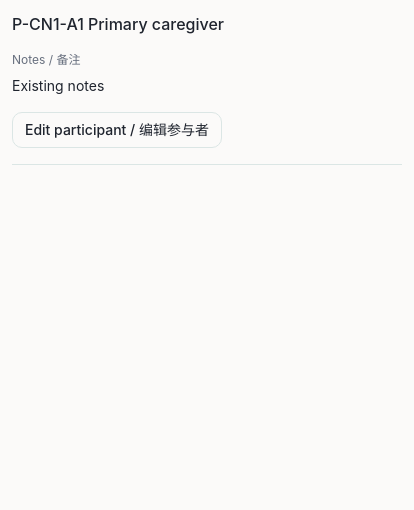
researcher-only participant display editing › retains the draft when saving is refused
Click the button "Edit participant / 编辑参与者". click: (117, 130)
box: [12,112,222,148]
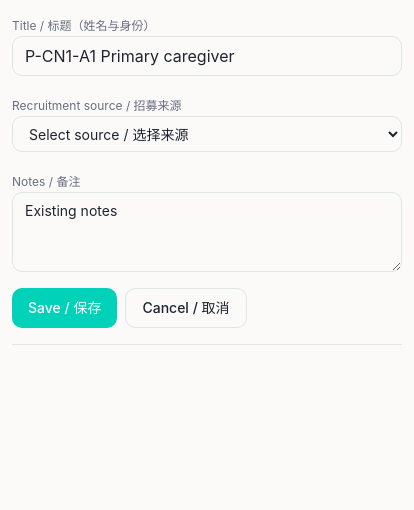
Select "Other / 其他（自行填写）" in the dropdown labelled "Recruitment source / 招募来源". click: (207, 134)
box: [12,116,402,152]
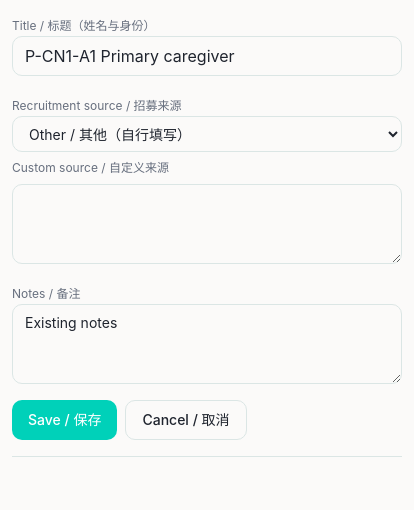
Type "Retained source" into the text box labelled "Custom source / 自定义来源". click: (207, 224)
box: [12,184,402,264]
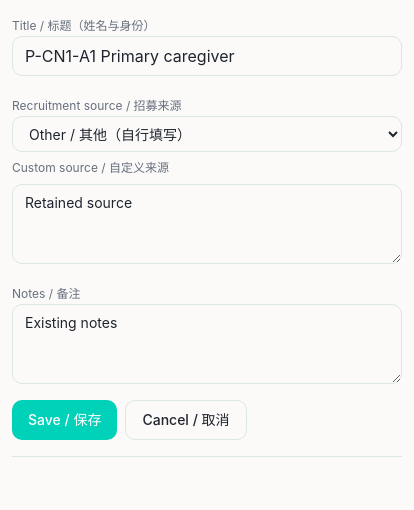
Click the button "Save / 保存". click: (65, 420)
box: [12,400,117,440]
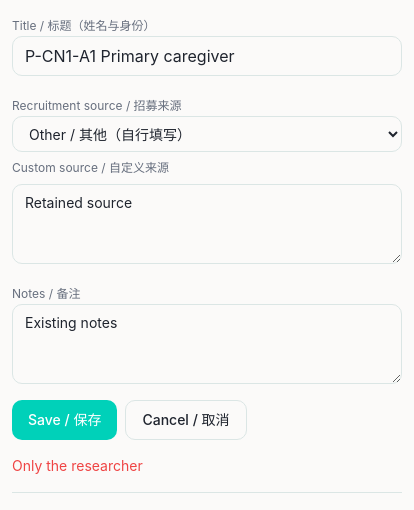
Check: the message reads "Only the researcher", box [12,457,143,474]
